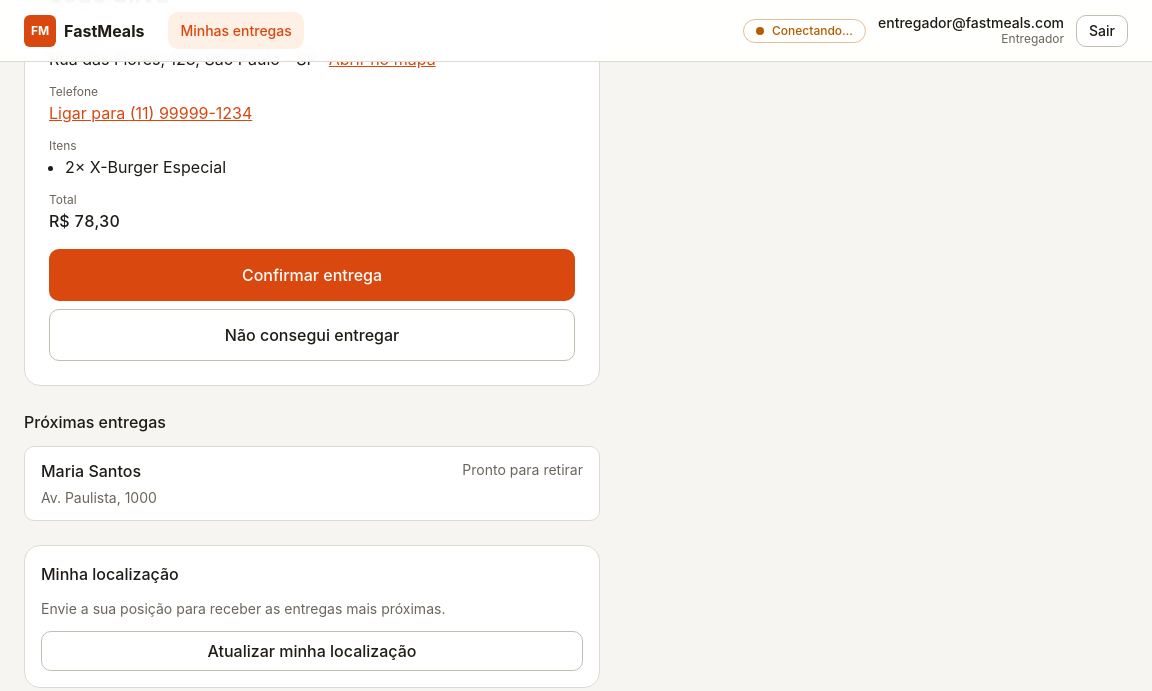
Test: Tela do entregador › sem permissão de localização, explica o que fazer
The width and height of the screenshot is (1152, 691).
(page scrolled)
What coordinates should you click on to do the following:
click the button "Atualizar minha localização"
I would click on:
 (312, 651)
Its box is [41,631,583,671].
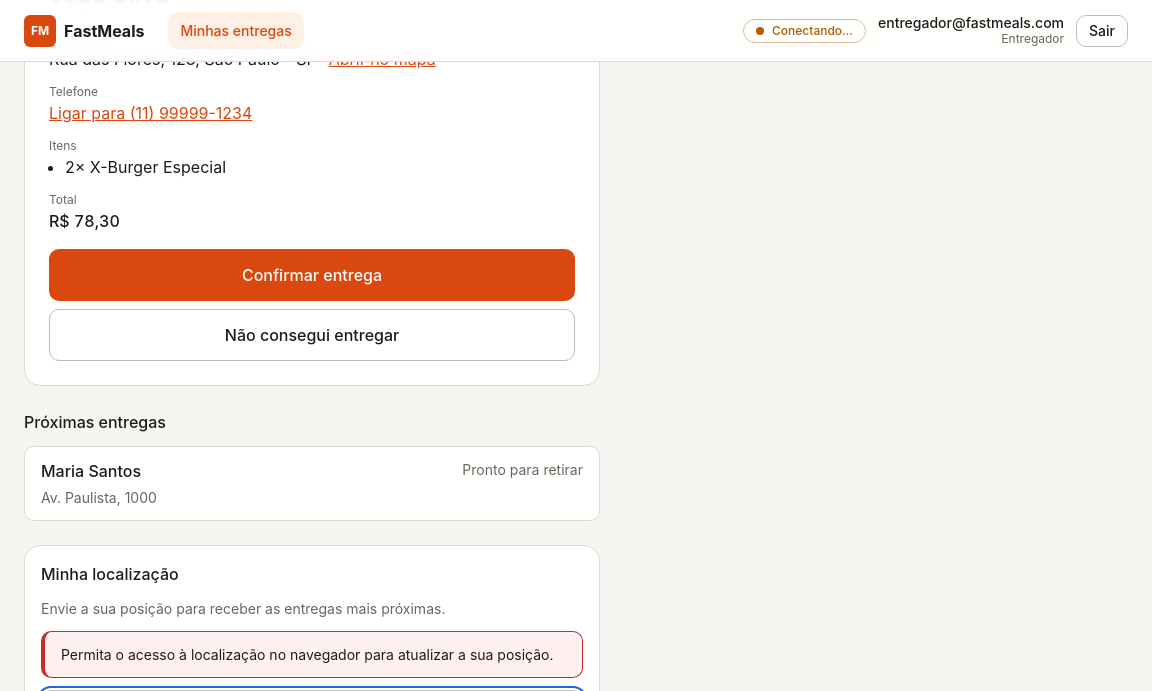
Check: the text "Permita o acesso à localização no navegador" is shown, box [61,646,554,663]
